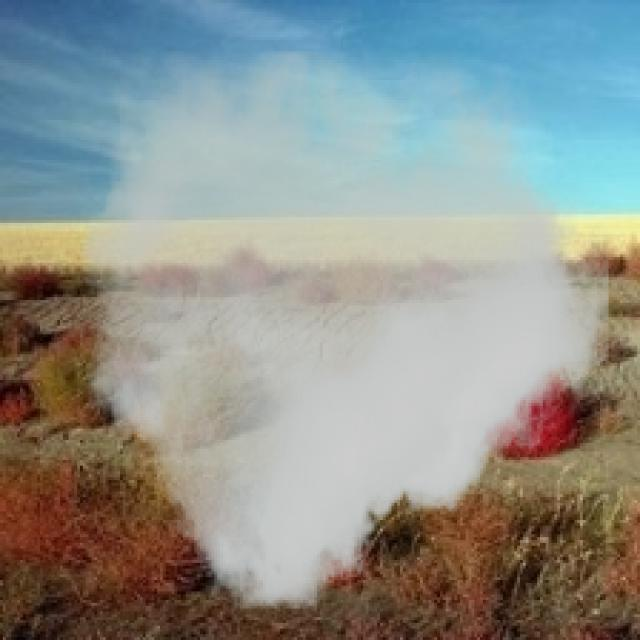smoke: (80, 51, 609, 608)
